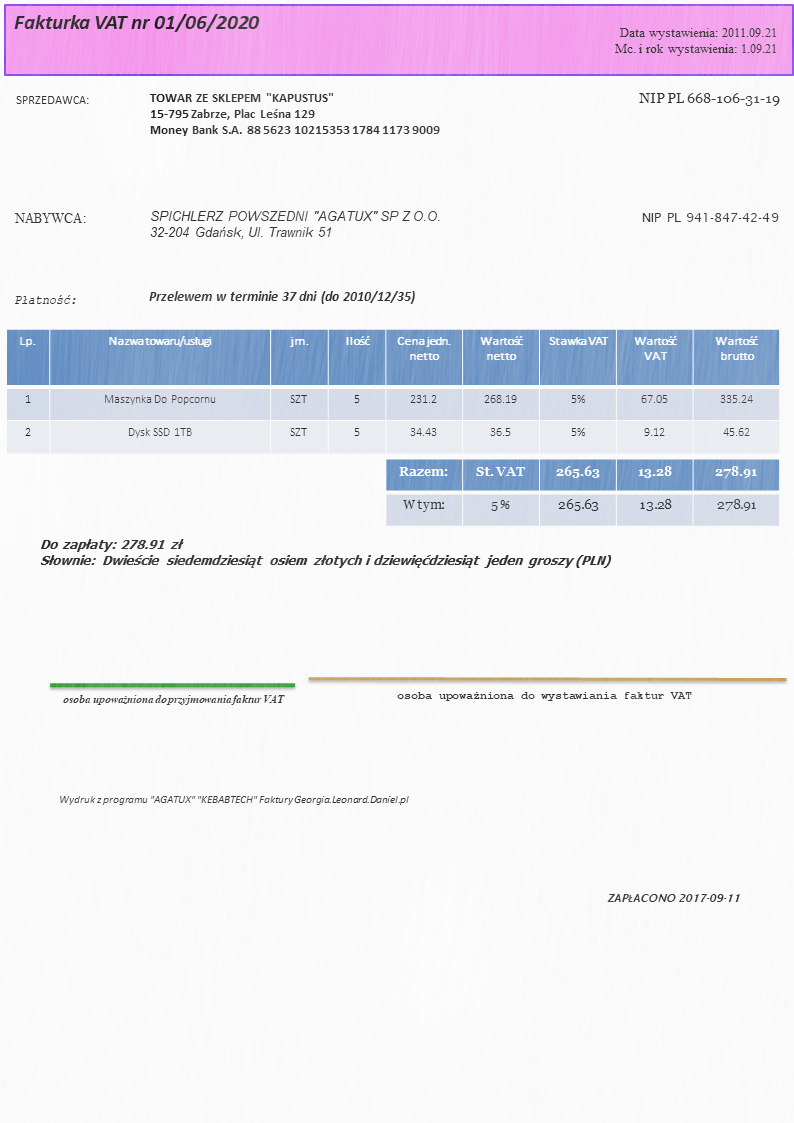Table: (5, 327, 781, 457), (385, 457, 781, 527)
TextBox: (38, 535, 614, 572), (146, 91, 440, 138), (147, 206, 444, 241), (610, 22, 778, 58), (12, 12, 261, 35), (58, 792, 411, 808), (146, 288, 416, 307), (395, 688, 694, 703), (61, 692, 286, 708), (635, 89, 781, 110), (640, 210, 781, 226), (605, 889, 742, 905), (12, 209, 88, 226), (13, 92, 90, 108), (13, 291, 77, 307)
